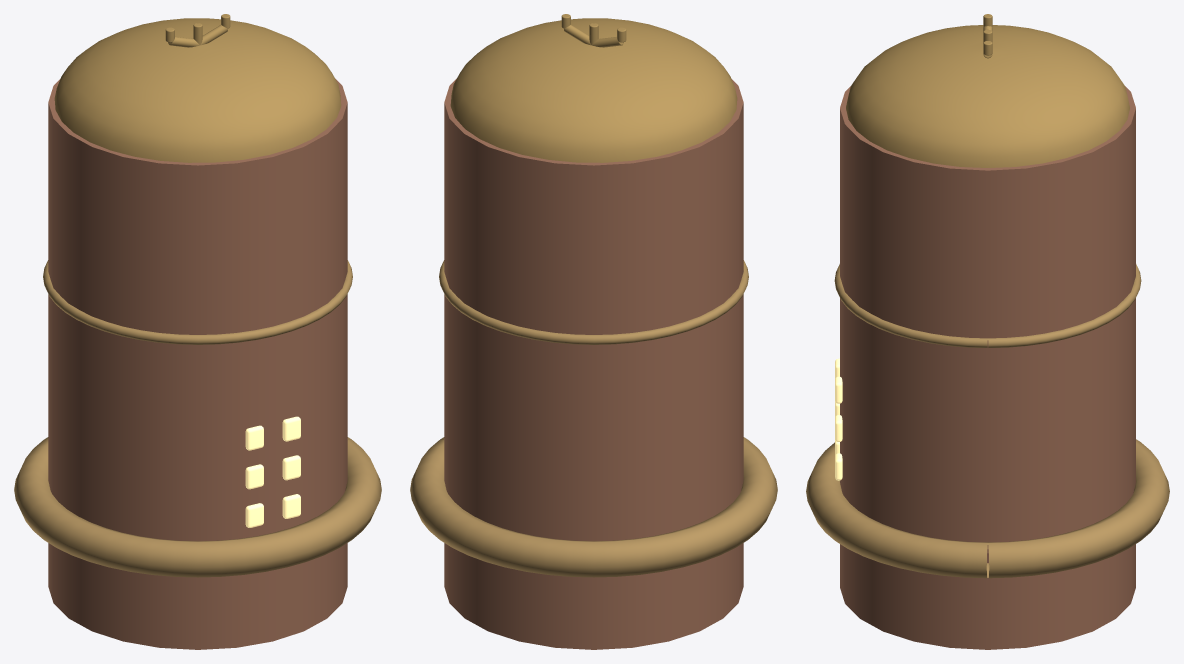
3 views of the same model, side by side, from view 1: azimuth 30°, elevation 25°; view 2: azimuth 150°, elevation 25°; view 3: azimuth 270°, elevation 25° (orthographic).
Parts seen in each view (by area): view 1: Cylindrical tower, Tower crown, Tower intermediate ledge, Tower seam; view 2: Cylindrical tower, Tower crown, Tower intermediate ledge, Tower seam; view 3: Cylindrical tower, Tower crown, Tower intermediate ledge, Tower seam.
Boxes of the visible parts, <box> form: Cylindrical tower: <box>48,78,347,649</box>; Tower crown: <box>54,18,341,162</box>; Tower intermediate ledge: <box>14,437,381,577</box>; Tower seam: <box>43,260,352,344</box>; Cylindrical tower: <box>444,78,743,649</box>; Tower crown: <box>450,18,737,162</box>; Tower intermediate ledge: <box>410,437,777,577</box>; Tower seam: <box>439,260,748,344</box>; Cylindrical tower: <box>840,86,1135,649</box>; Tower crown: <box>846,25,1129,167</box>; Tower intermediate ledge: <box>806,439,1169,578</box>; Tower seam: <box>834,264,1141,347</box>.
Size of the model in its own units: 1.72 by 2.91 by 1.72.
